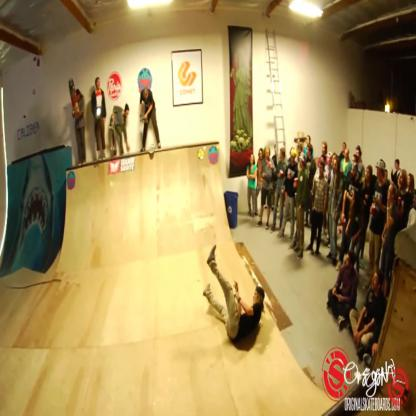Fall_Down: (202, 240, 268, 349)
